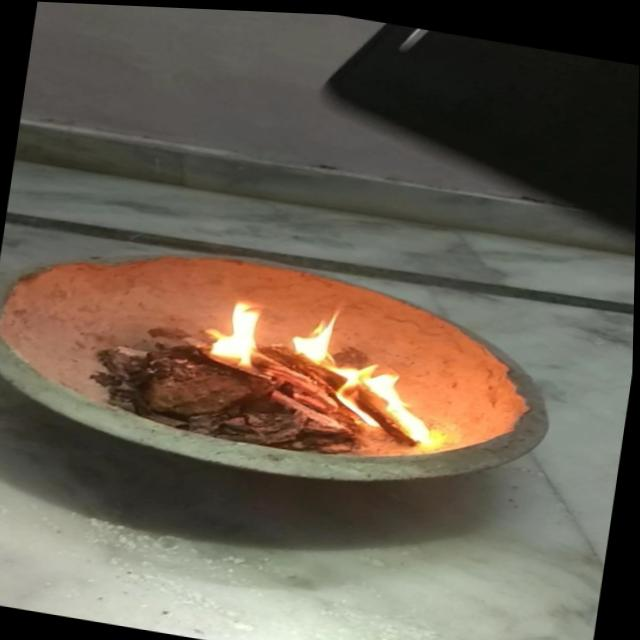fire: (196, 291, 454, 444)
